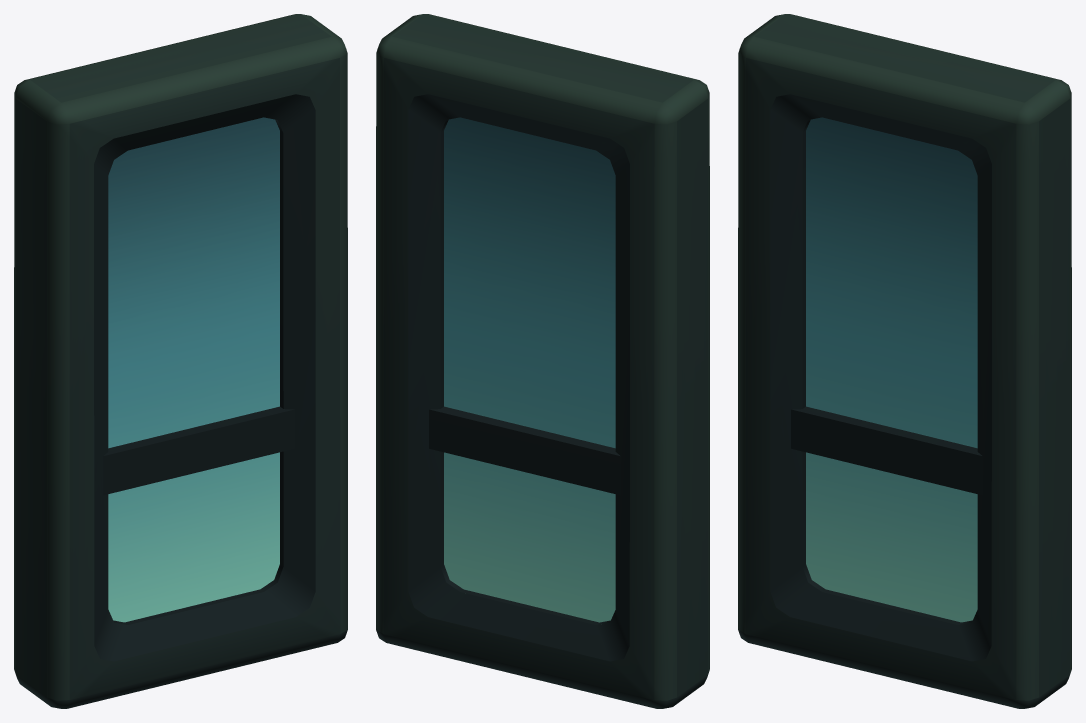
Rendered from window_dark2_LOD_setup.fbx.
3 views of the same model, side by side, from view 1: azimuth 30°, elevation 25°; view 2: azimuth 150°, elevation 25°; view 3: azimuth 330°, elevation 25° (orthographic).
Visible parts, largest first — view 1: window_dark2_LOD0; view 2: window_dark2_LOD0; view 3: window_dark2_LOD0.
Part boxes in pixels (left/top/right/bottom): window_dark2_LOD0: left=14, top=14, right=347, bottom=708; window_dark2_LOD0: left=376, top=14, right=709, bottom=708; window_dark2_LOD0: left=738, top=14, right=1071, bottom=708.
Size of what is drawn, in the model's own units: 104 by 202 by 28.91.
